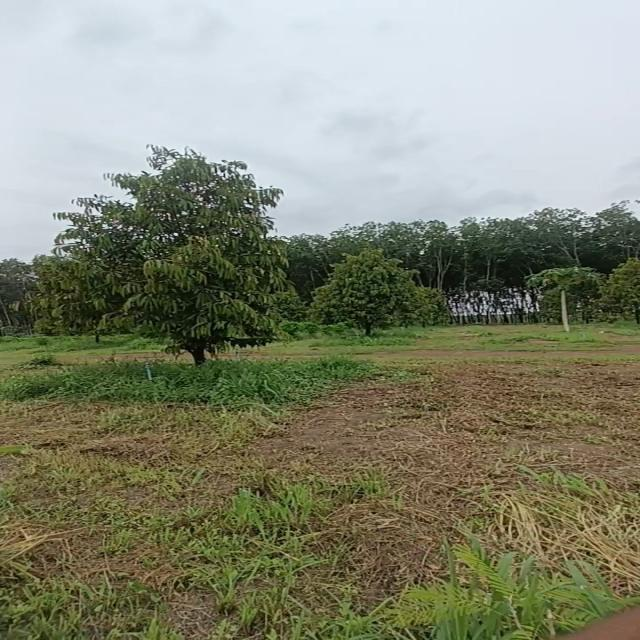Tree: (29, 127, 280, 381), (332, 254, 429, 347)
